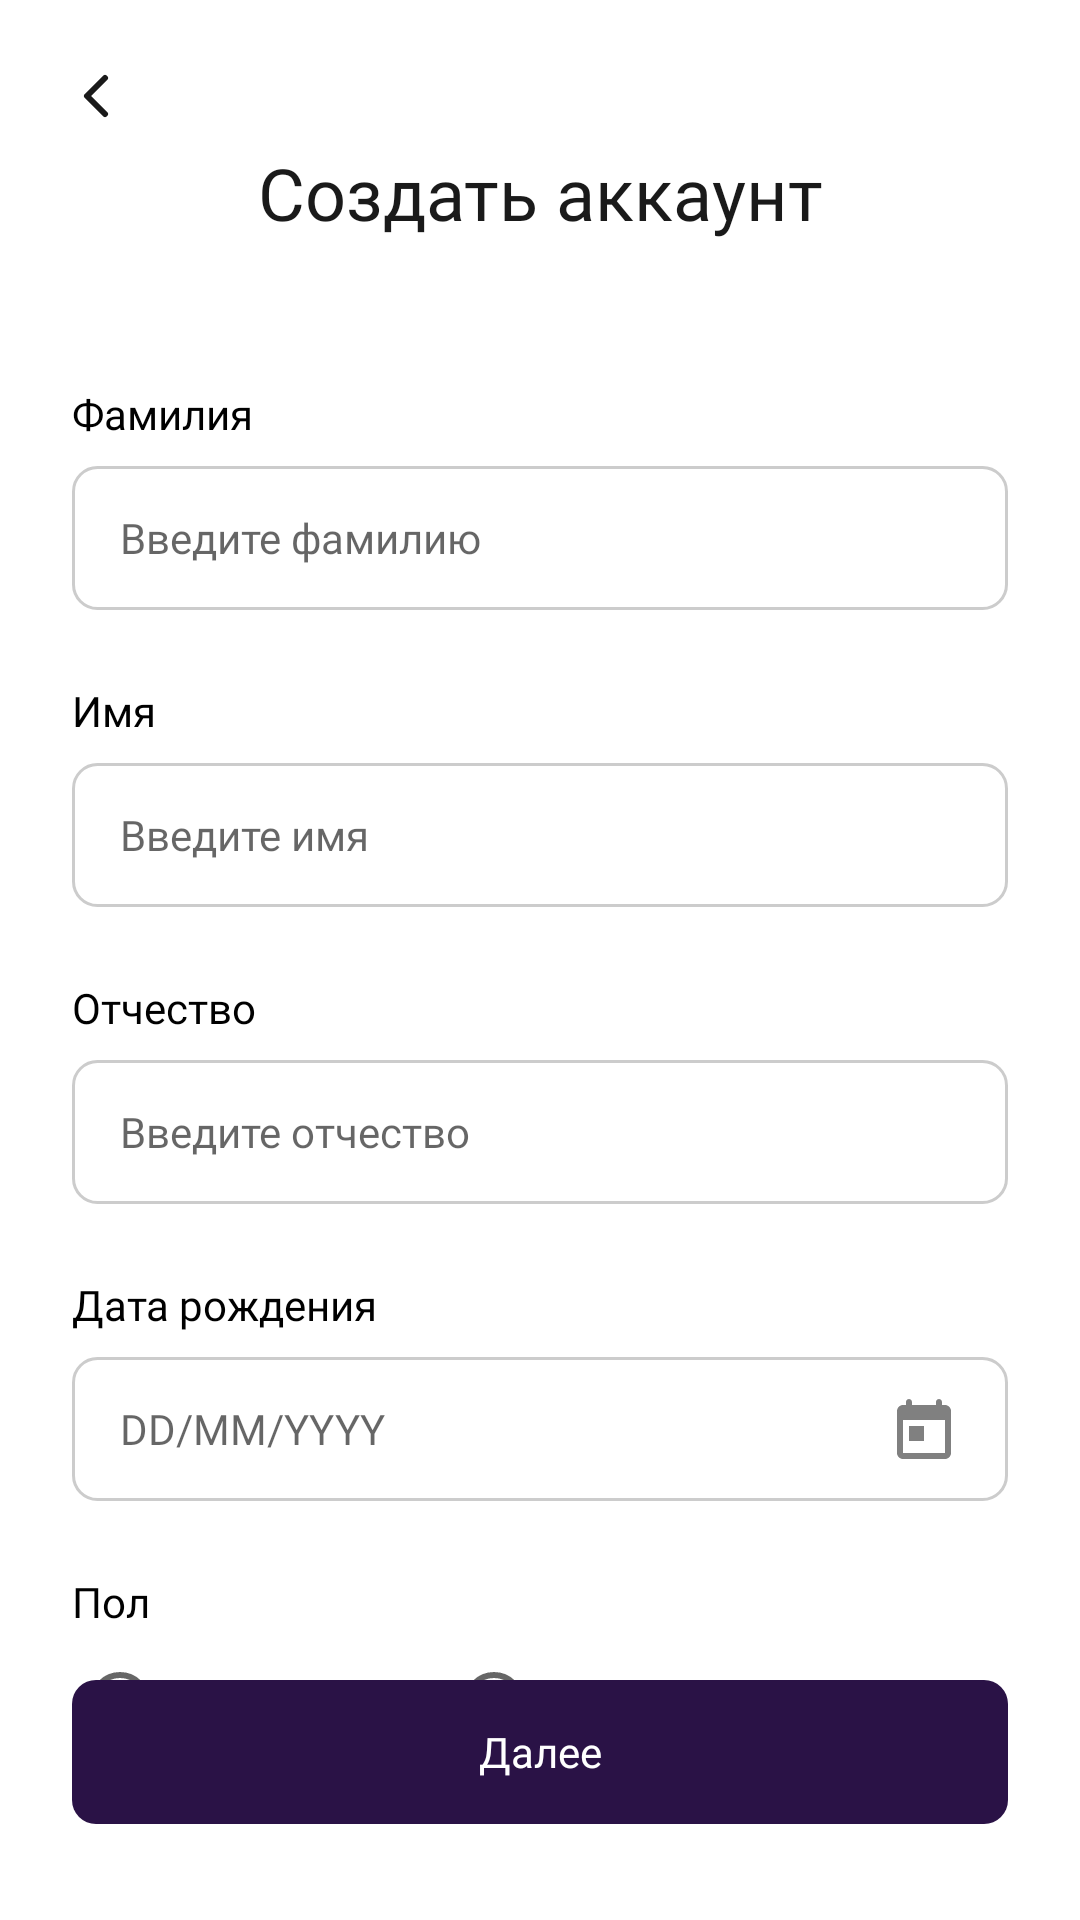

Icon click points for this 1080px x 1920px phone screenshot, format [x,y]:
chevron left: [96,96]
